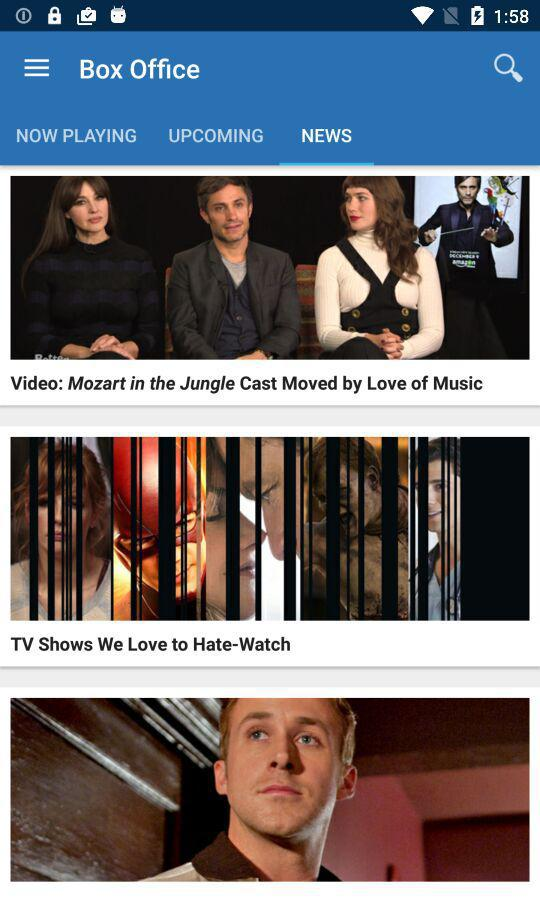Icon: (493, 53, 524, 84), (24, 59, 51, 79)
Image: (11, 437, 530, 621), (11, 177, 530, 361), (11, 698, 530, 881)
Text: (11, 376, 483, 395), (11, 636, 291, 652), (80, 57, 201, 81), (18, 128, 138, 144), (169, 129, 264, 144), (302, 129, 353, 144)
UpperTaskBar: (1, 1, 540, 33)
